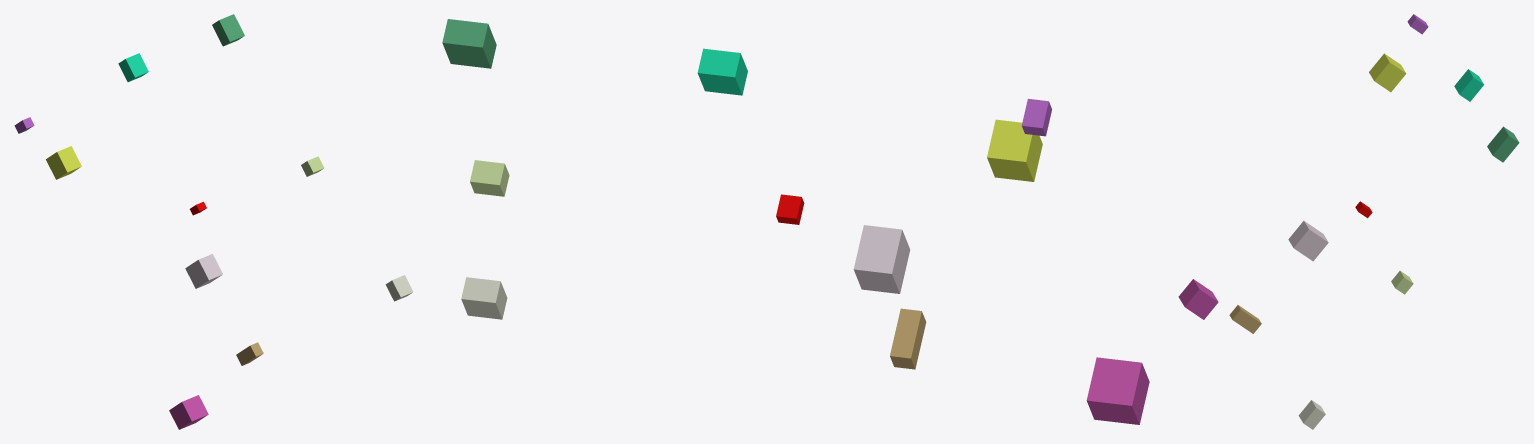
File: batchedWithVertexColors.glb
The picture shows the model from 3 angles, left to right: view 1: azimuth 30°, elevation 25°; view 2: azimuth 150°, elevation 25°; view 3: azimuth 270°, elevation 25°; orthographic projection. The views are drawn at different scales.
Size of the model in its own units: 200 by 145 by 161.
